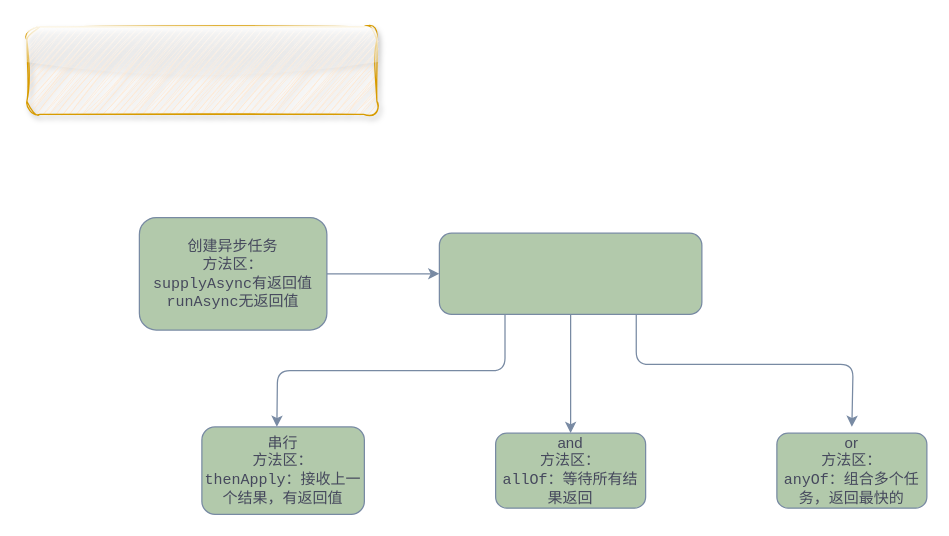
The diagram is 949 pixels wide and 536 high, and some of its shapes have lost their labels. Here are the shapes that lost their labels. From the top down, the centre of each, then its label:
point (202, 72): supply方法可以获取异步结果，而run方法则无返回值
point (570, 273): 继续上一段的任务(里面包含了串行，AND，OR)
